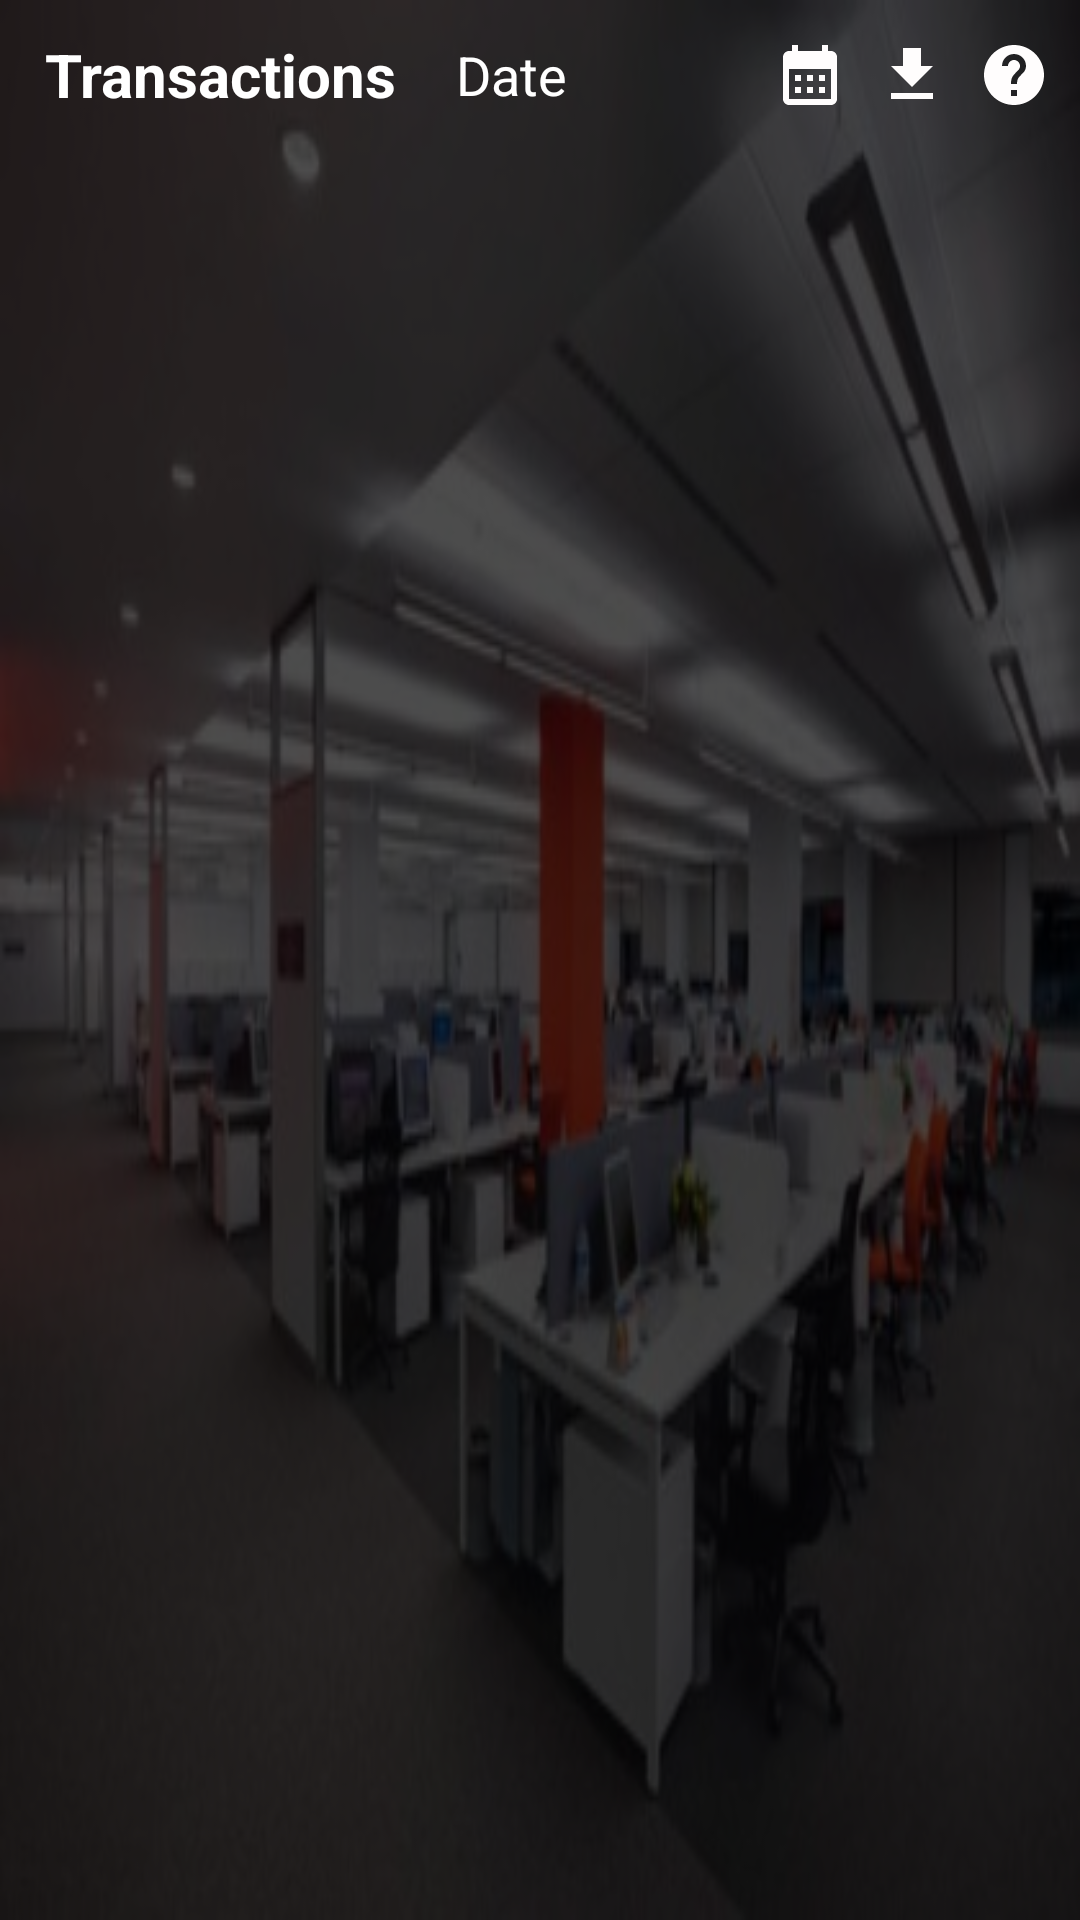

Locate icon controls on the screen. Image size 1080x1920, boxes as detection(x1, y1, x2, y2).
file download: detection(891, 48, 933, 99)
help: detection(984, 45, 1044, 105)
